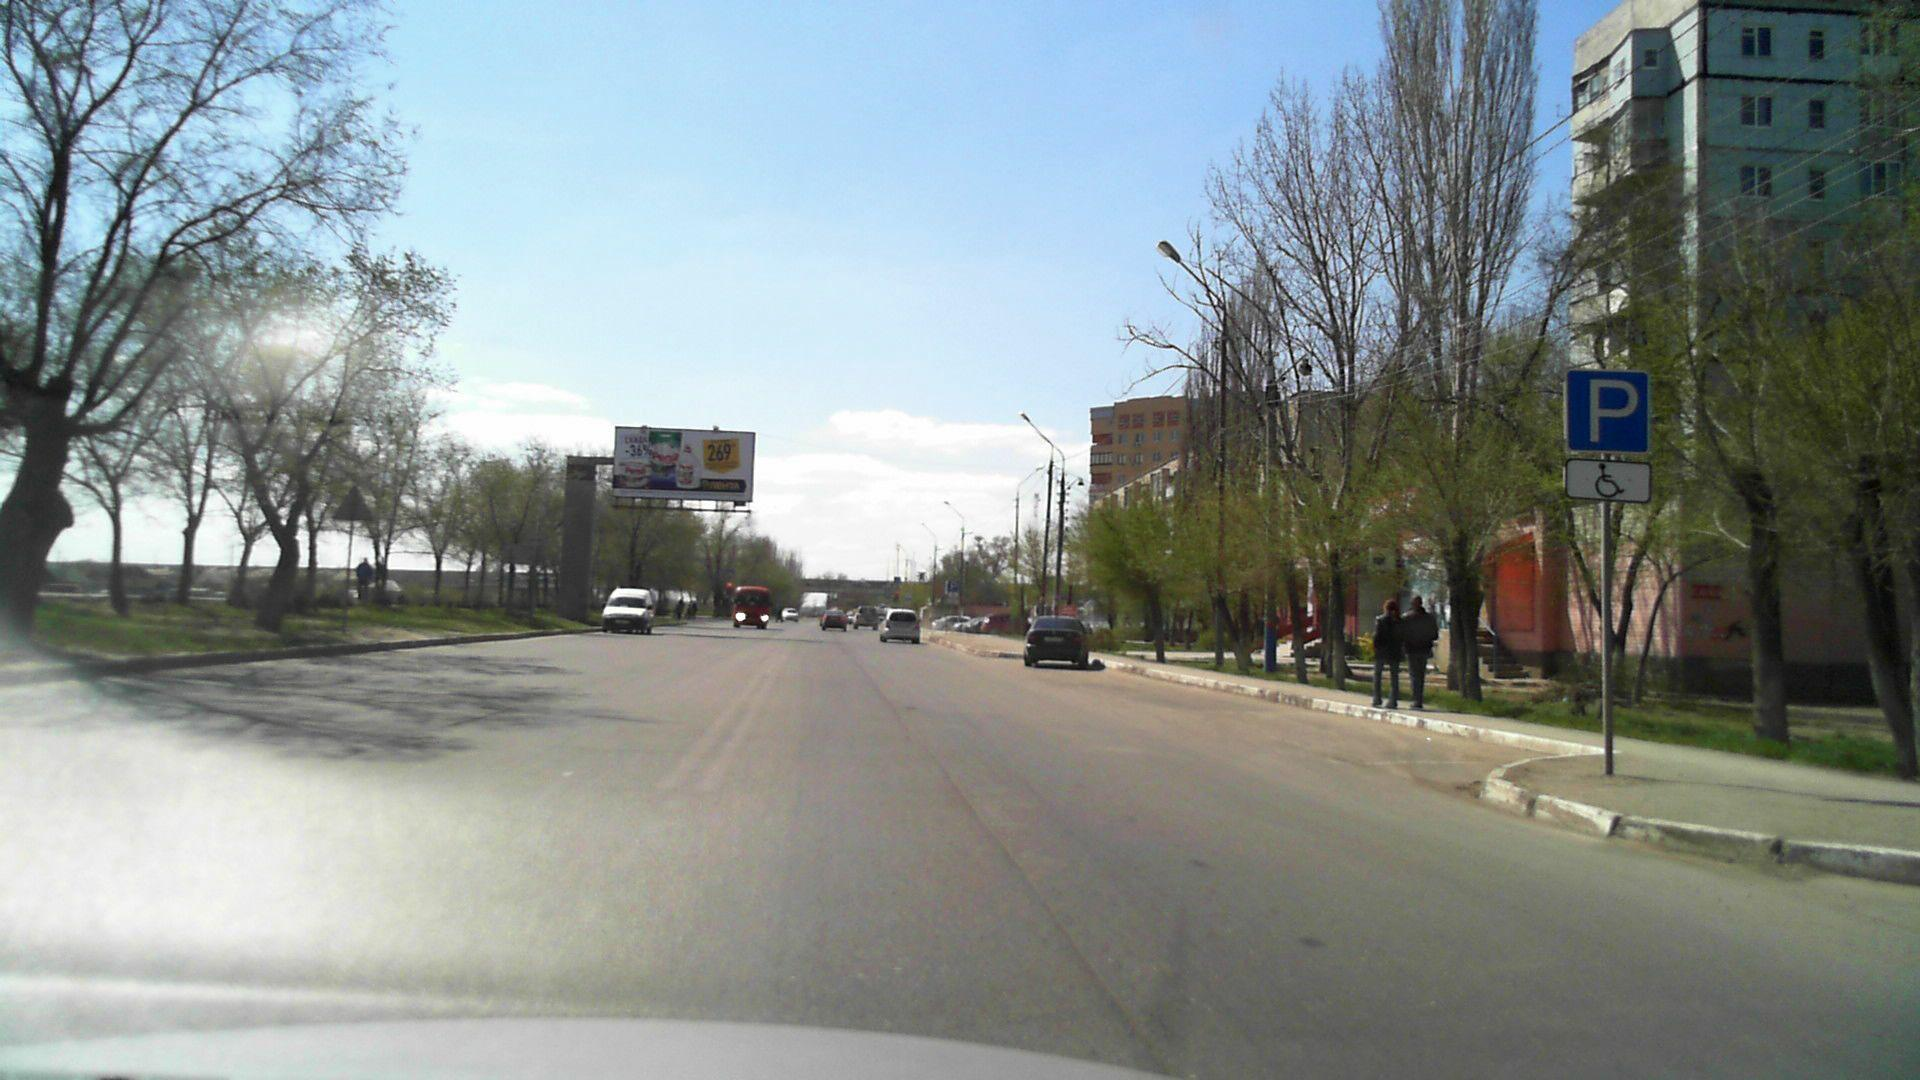6_4: (1561, 369, 1651, 452)
8_17: (1563, 456, 1652, 502)
